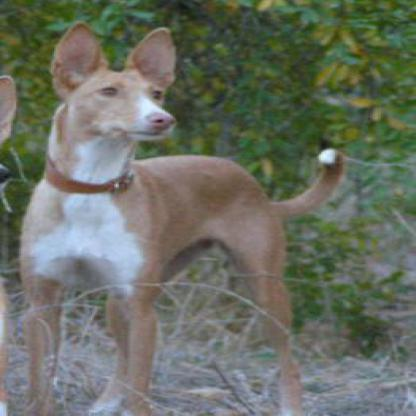dog: (14, 4, 349, 416)
